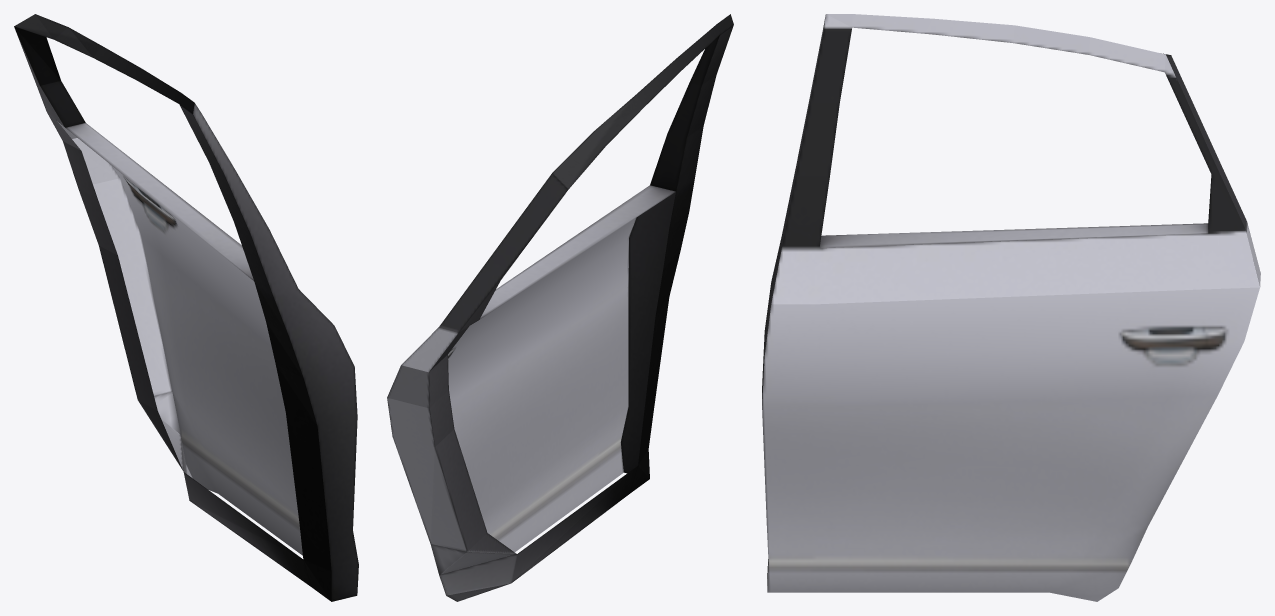
File: houchemen002.FBX
The picture shows the model from 3 angles, left to right: view 1: azimuth 30°, elevation 25°; view 2: azimuth 150°, elevation 25°; view 3: azimuth 270°, elevation 25°; orthographic projection.
Visible parts, largest first — view 1: houchemen002; view 2: houchemen002; view 3: houchemen002.
Boxes of the visible parts, left/top/right/bottom form: houchemen002: left=14, top=14, right=358, bottom=601; houchemen002: left=387, top=14, right=733, bottom=601; houchemen002: left=762, top=14, right=1260, bottom=601.
Bounding box in the file's own units: 183 × 598 × 519.
